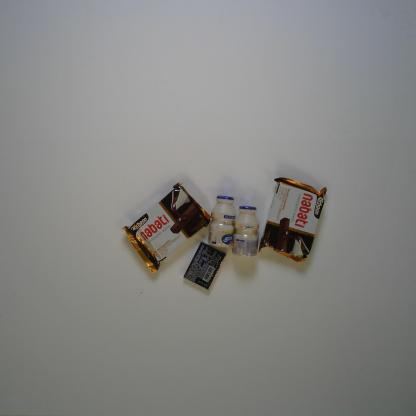Dessert: (120, 182, 212, 276), (258, 177, 327, 263)
Gum: (183, 240, 227, 290)
Milk: (207, 194, 237, 249), (232, 205, 260, 258)
